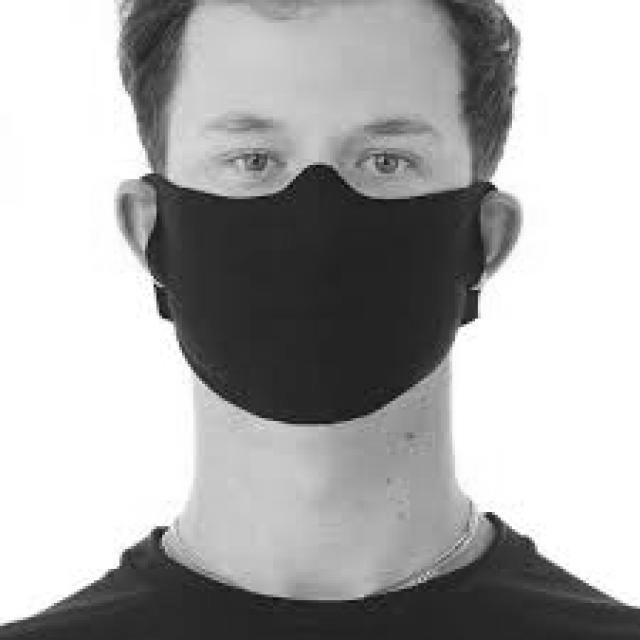fake: (92, 164, 512, 430)
real: (166, 1, 475, 438)
